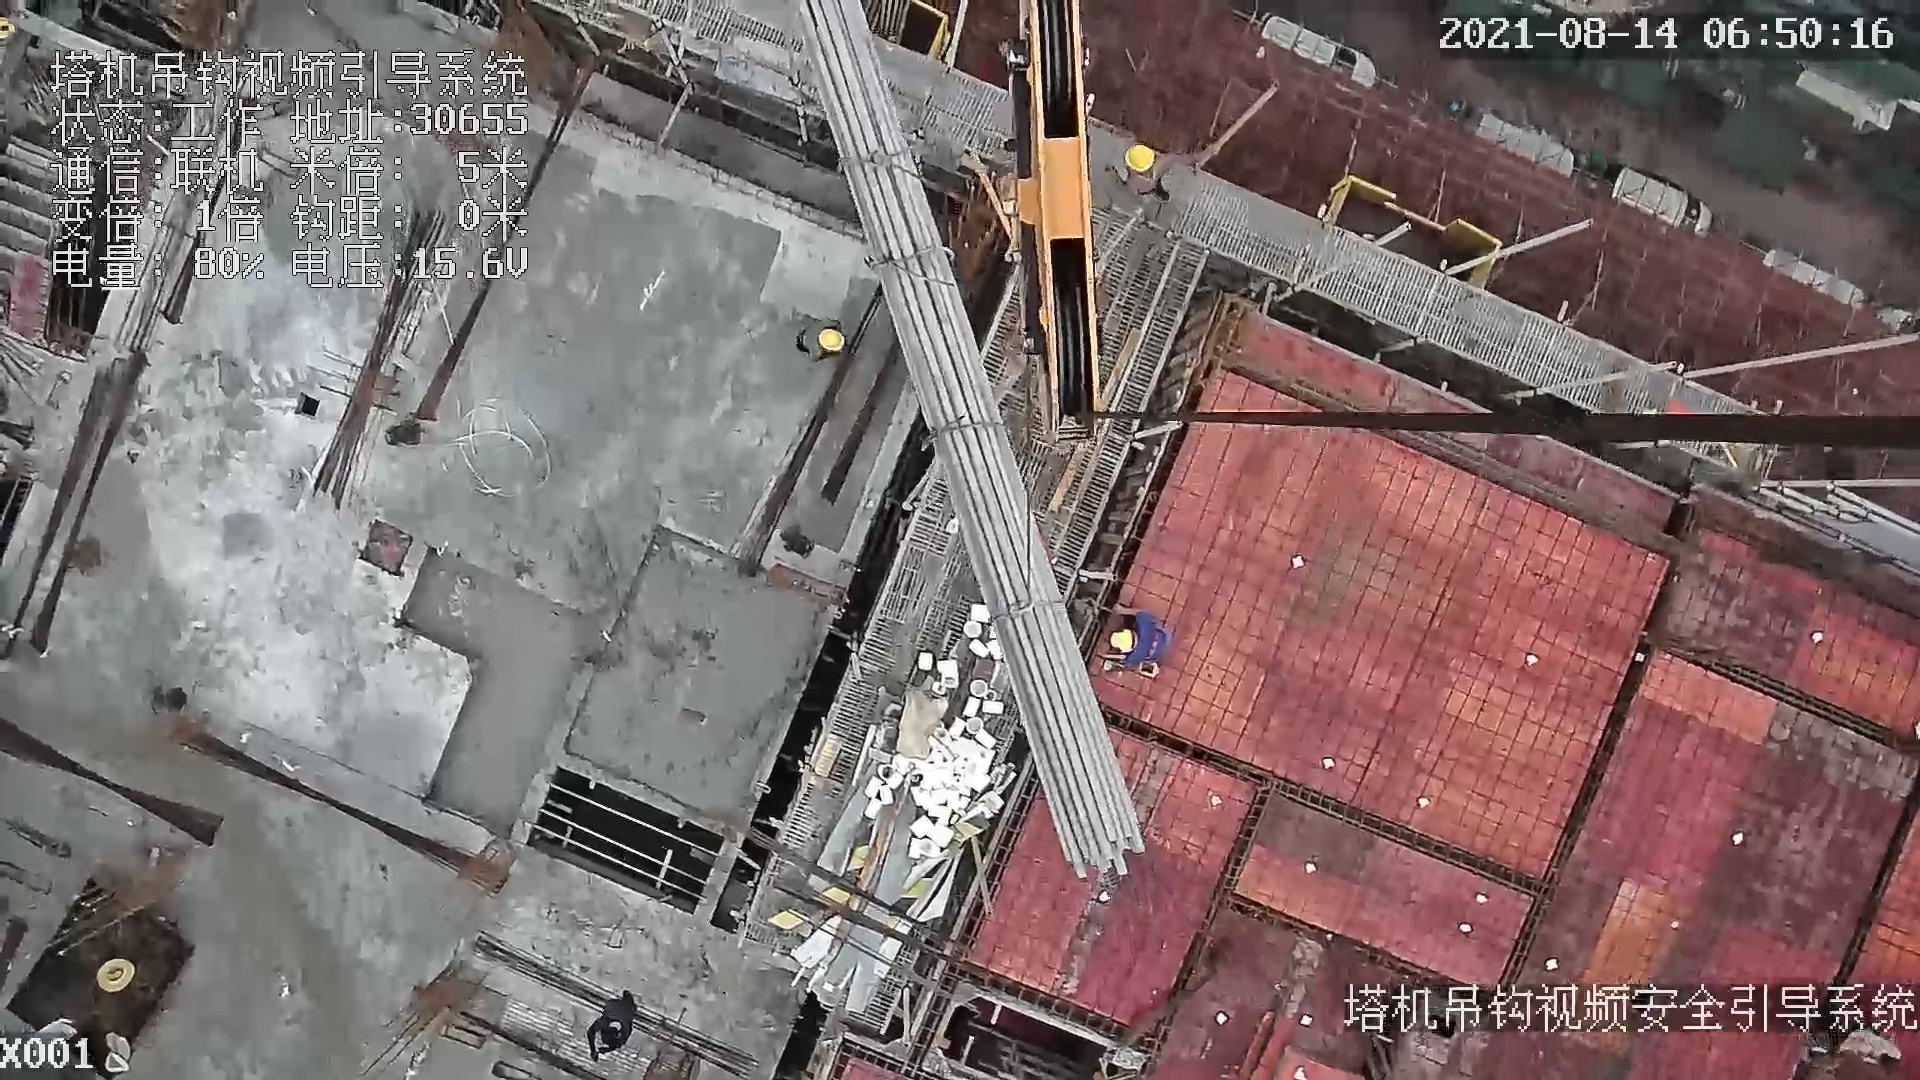helmet: (1095, 604, 1142, 675), (1108, 133, 1162, 187), (817, 323, 851, 355)
hook: (968, 1, 1104, 441)
person: (1123, 135, 1199, 204), (1095, 609, 1170, 676), (785, 314, 854, 364)
